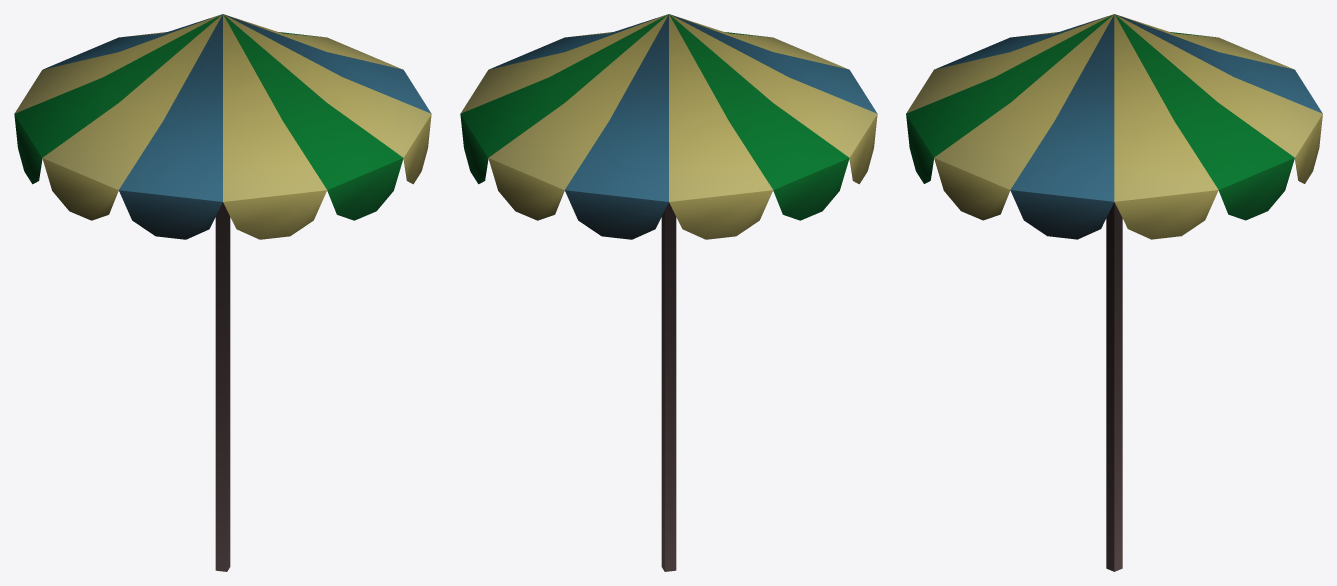
Rendered from Umbrella_3C.fbx.
3 views of the same model, side by side, from view 1: azimuth 30°, elevation 25°; view 2: azimuth 150°, elevation 25°; view 3: azimuth 270°, elevation 25° (orthographic).
Visible parts, largest first — view 1: Umbrella_3C; view 2: Umbrella_3C; view 3: Umbrella_3C.
Part boxes in pixels (x1=…): Umbrella_3C: x1=14, y1=14, x2=431, y2=571; Umbrella_3C: x1=460, y1=14, x2=877, y2=571; Umbrella_3C: x1=906, y1=14, x2=1322, y2=571.
Size of the model in its own units: 193 by 283 by 193.
